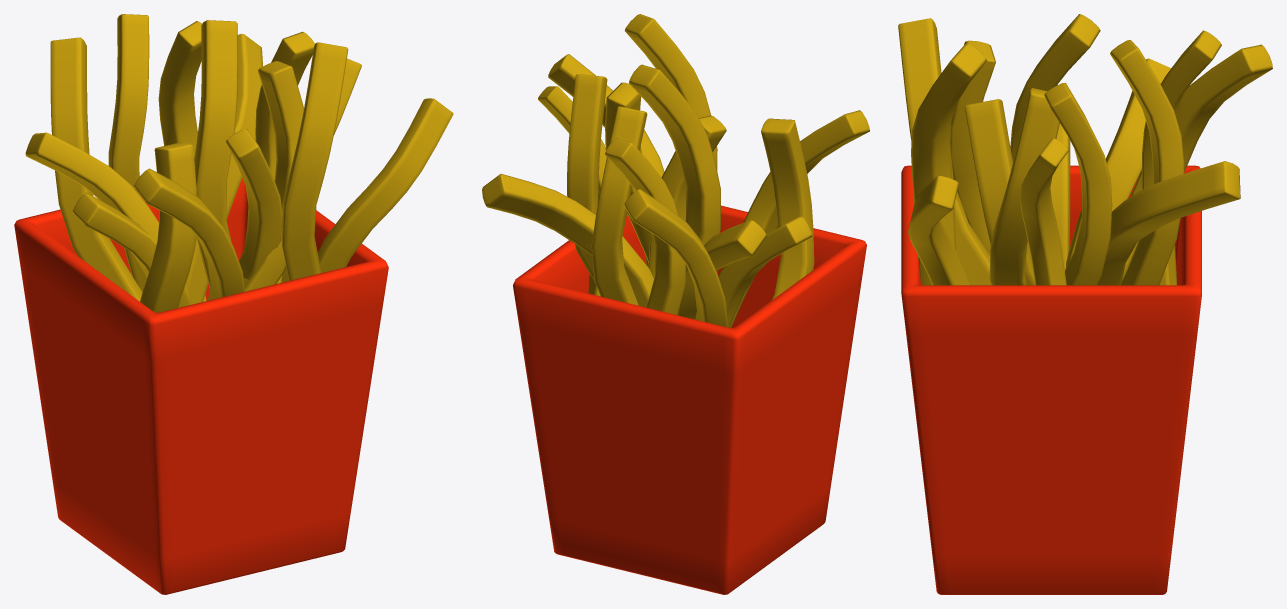
Rendered from frenchfriese.fbx.
3 views of the same model, side by side, from view 1: azimuth 30°, elevation 25°; view 2: azimuth 150°, elevation 25°; view 3: azimuth 270°, elevation 25° (orthographic). The views are drawn at different scales.
Visible parts, largest first — view 1: box, fries; view 2: box, fries; view 3: box, fries.
Boxes of the visible parts, <box> form: box: <box>14,178,388,594</box>; fries: <box>25,14,453,312</box>; box: <box>513,205,866,594</box>; fries: <box>482,14,869,327</box>; box: <box>901,165,1201,594</box>; fries: <box>898,14,1272,285</box>.
Bounding box in the file's own units: 157 × 236 × 147.
Materials: 2 (2 with a texture image).
